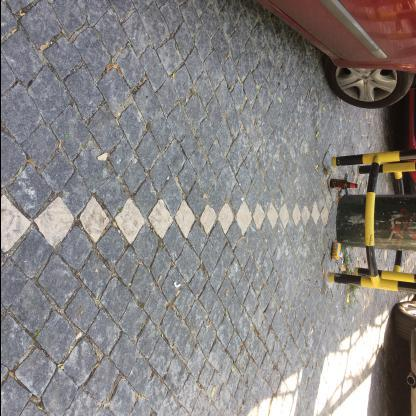cam: (330, 179, 358, 191)
metal: (331, 243, 341, 262)
